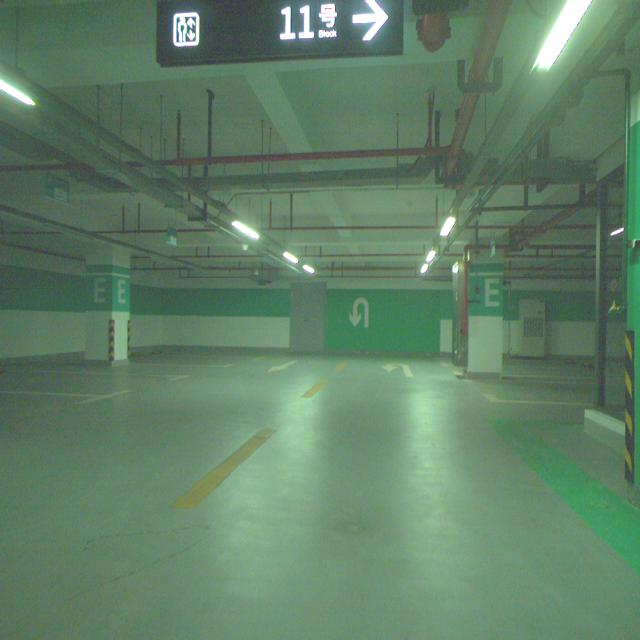pillar: (85, 244, 130, 364)
